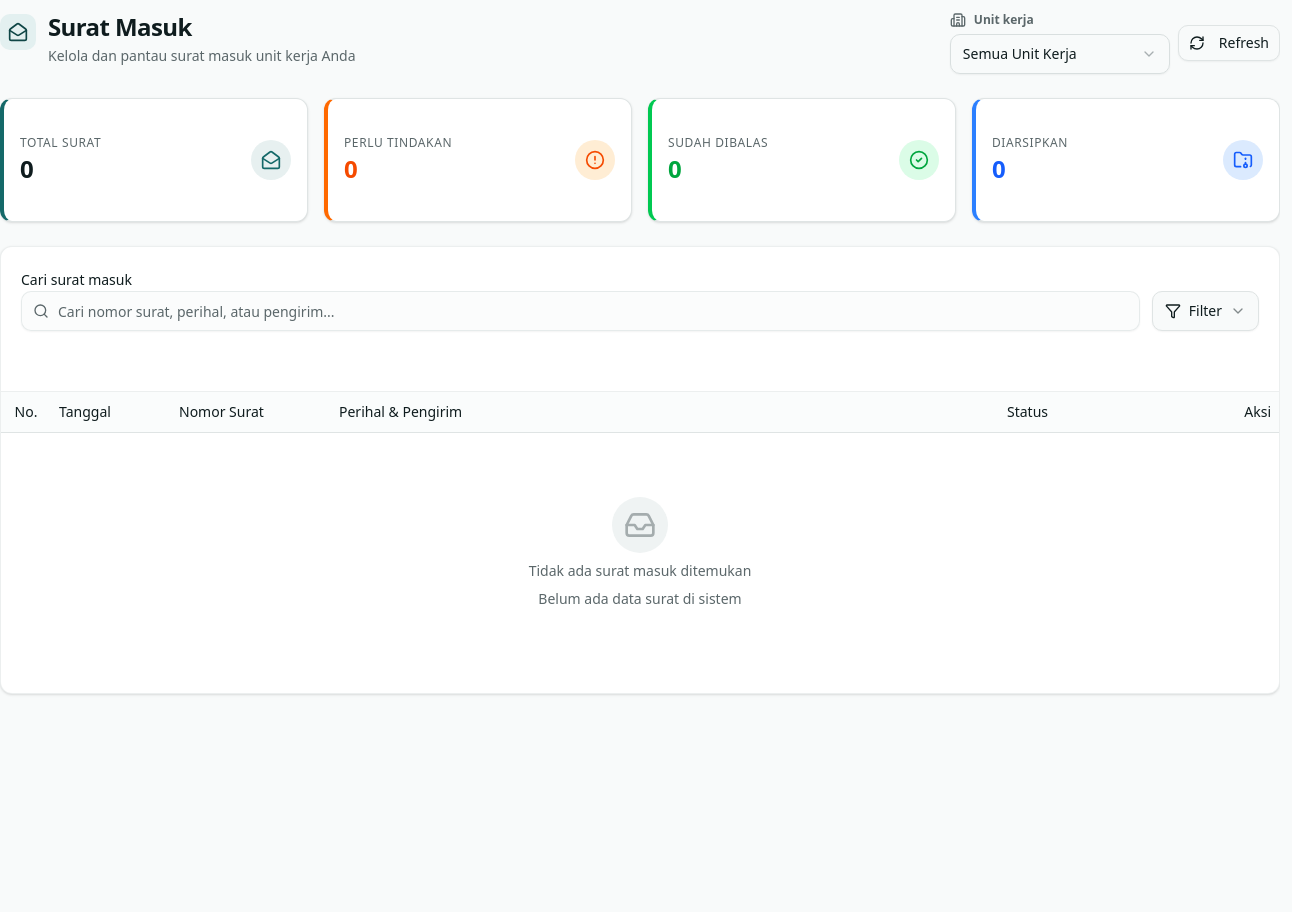
visible search and associated filter labels › labels the real masuk controls
Expected: the text "Cari surat masuk" is shown, [21,270,132,289]
Expected: the dropdown labelled "Unit Kerja" is shown, [950,34,1170,74]
Click the button "Filter" at (1205, 311), box [1152,291,1259,331]
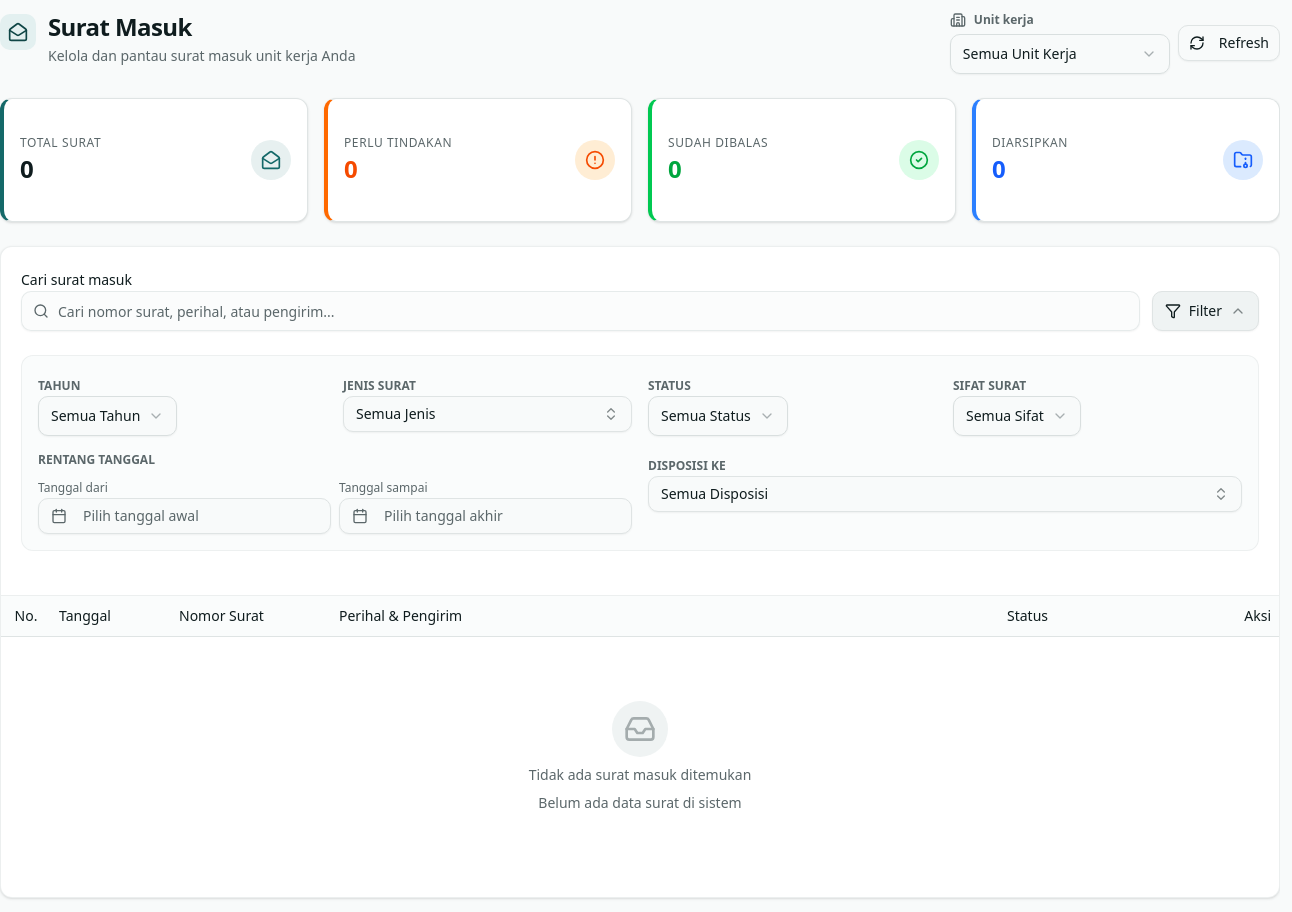
Expected: the text "Tahun" is shown, [38,377,80,394]
Expected: the text "Jenis Surat" is shown, [343,377,416,394]
Expected: the text "Status" is shown, [648,377,691,394]
